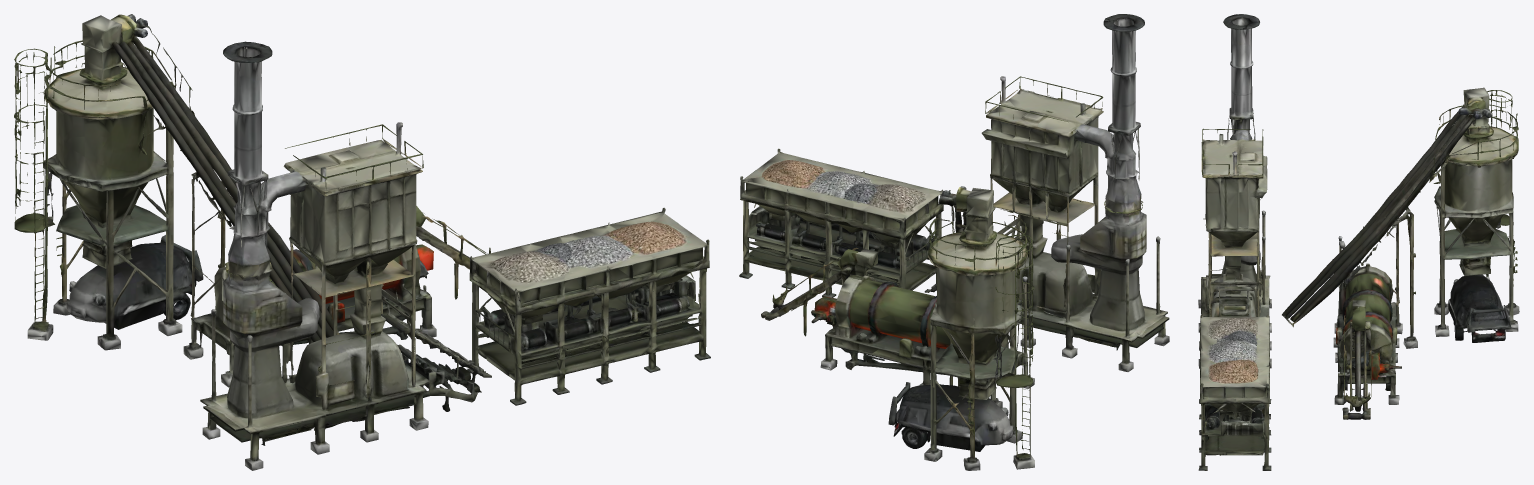
Rendered from usina-cbuq_lod0.glb.
The picture shows the model from 3 angles, left to right: view 1: azimuth 30°, elevation 25°; view 2: azimuth 150°, elevation 25°; view 3: azimuth 270°, elevation 25°; orthographic projection. The views are drawn at different scales.
Visible parts, largest first — view 1: tripo_node_fc166470-c7c0-41f4-ab72-5c5cafeb684e; view 2: tripo_node_fc166470-c7c0-41f4-ab72-5c5cafeb684e; view 3: tripo_node_fc166470-c7c0-41f4-ab72-5c5cafeb684e.
Part boxes in pixels (left/top/right/bottom): tripo_node_fc166470-c7c0-41f4-ab72-5c5cafeb684e: left=14, top=14, right=710, bottom=470; tripo_node_fc166470-c7c0-41f4-ab72-5c5cafeb684e: left=739, top=14, right=1169, bottom=470; tripo_node_fc166470-c7c0-41f4-ab72-5c5cafeb684e: left=1198, top=14, right=1519, bottom=470.
Size of the model in its own units: 24 by 18.09 by 18.02.
Materials: 1 (1 with a texture image).
